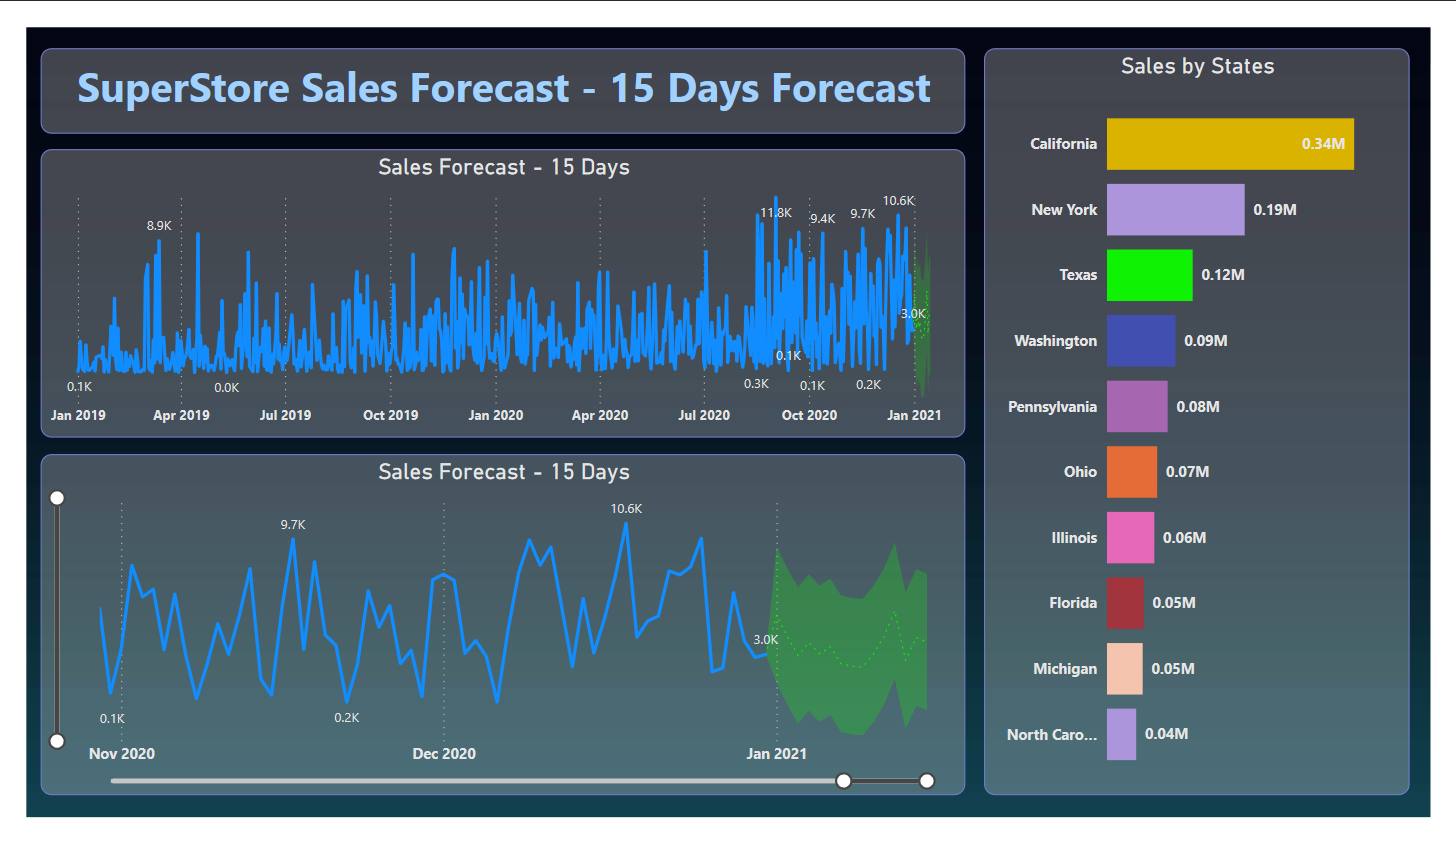

The dashboard page shown, as its layout file describes it:
{"tool":"powerbi","page":{"name":"Sales Forecast","canvas":[1280,720],"ordinal":1},"visuals":[{"type":"lineChart","title":"Sales Forecast - 15 Days","fields":{"Y":["Sum(SuperStore_Sales_Dataset.Sales)"],"Category":["SuperStore_Sales_Dataset.Order Date"]},"box":[12.9,111.4,842.9,262.9],"z":0},{"type":"lineChart","title":"Sales Forecast - 15 Days","fields":{"Y":["Sum(SuperStore_Sales_Dataset.Sales)"],"Category":["SuperStore_Sales_Dataset.Order Date"]},"box":[12.9,388.6,842.9,311.4],"z":1000},{"type":"textbox","box":[12.9,18.6,842.9,78.6],"z":2000},{"type":"barChart","title":"Sales by States","fields":{"Y":["Sum(SuperStore_Sales_Dataset.Sales)"],"Category":["SuperStore_Sales_Dataset.State"]},"box":[872.9,18.6,388.6,681.4],"z":3000}]}

Visuals, with their boxes in screenshot pixels (x1, y1, x2, y2), scaled from the page's 1280x720 canvas onto the 1456x842 screenshot:
"Sales Forecast - 15 Days" lineChart: region(15, 130, 973, 438)
"Sales Forecast - 15 Days" lineChart: region(15, 454, 973, 819)
textbox: region(15, 22, 973, 114)
"Sales by States" barChart: region(993, 22, 1435, 819)
